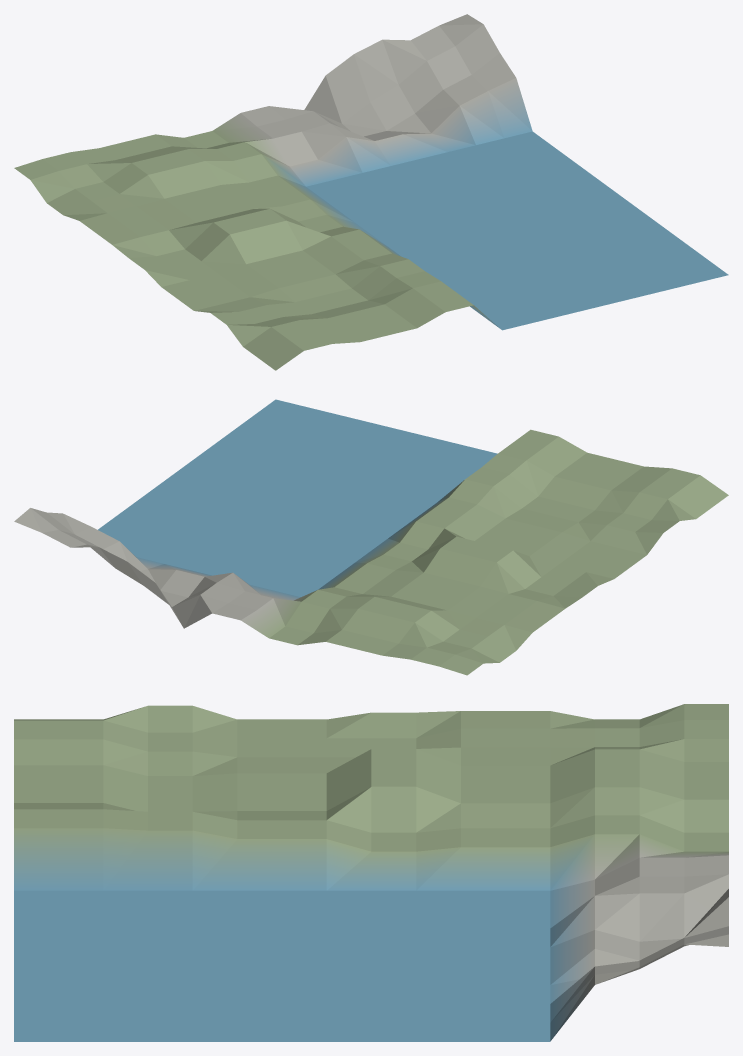
3 views of the same model, one above another, from view 1: azimuth 30°, elevation 25°; view 2: azimuth 150°, elevation 25°; view 3: azimuth 270°, elevation 25° (orthographic). The views are drawn at different scales.
Size of the model in its own units: 32 by 4.81 by 32.
